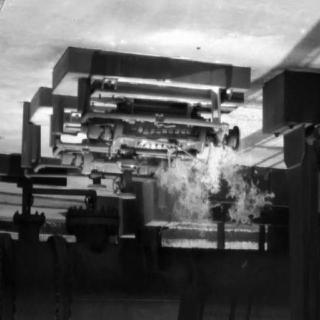Fire: (156, 126, 280, 236)
